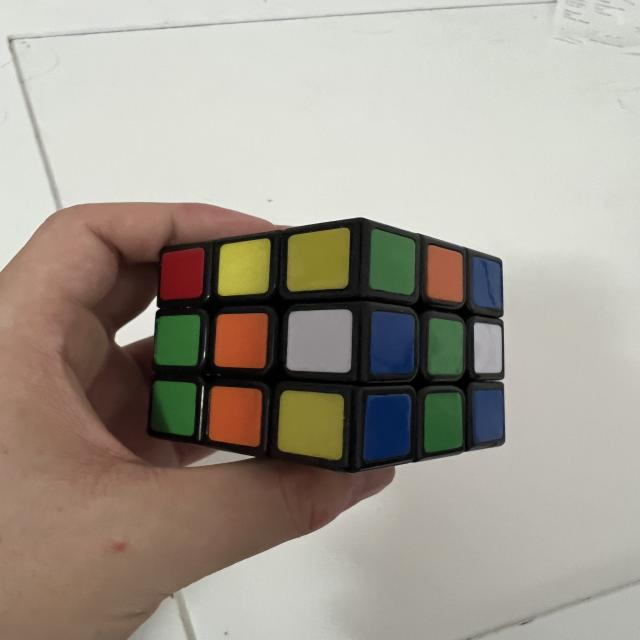blue: (363, 392, 413, 464), (370, 311, 415, 375), (470, 389, 505, 446), (471, 257, 503, 309)
center: (213, 311, 269, 369), (426, 317, 465, 377)
green: (369, 229, 416, 295), (149, 380, 197, 437), (154, 314, 201, 367), (424, 391, 463, 453), (427, 318, 465, 376)
orange: (206, 385, 264, 448), (213, 311, 269, 369), (426, 245, 464, 303)
red: (159, 246, 205, 303)
white: (286, 308, 353, 373), (473, 322, 503, 374)
yellow: (276, 389, 346, 461), (284, 227, 353, 292), (217, 237, 271, 298)
